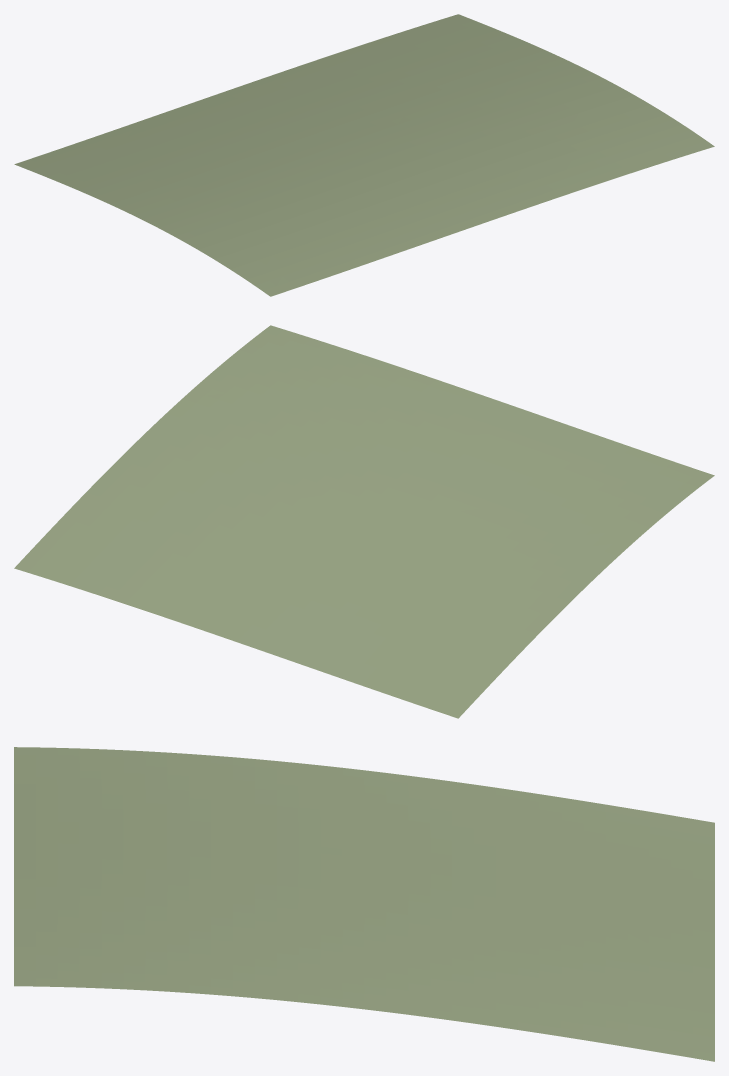
File: valley-14-14.glb
The picture shows the model from 3 angles, top to bottom: view 1: azimuth 30°, elevation 25°; view 2: azimuth 150°, elevation 25°; view 3: azimuth 270°, elevation 25°; orthographic projection. The views are drawn at different scales.
Parts seen in each view (by area): view 1: valley-14-14; view 2: valley-14-14; view 3: valley-14-14.
Boxes of the visible parts, <box> form: valley-14-14: <box>14,14,714,296</box>; valley-14-14: <box>14,325,714,718</box>; valley-14-14: <box>14,747,714,1061</box>.
Bounding box in the file's own units: 256 × 53.49 × 256.
